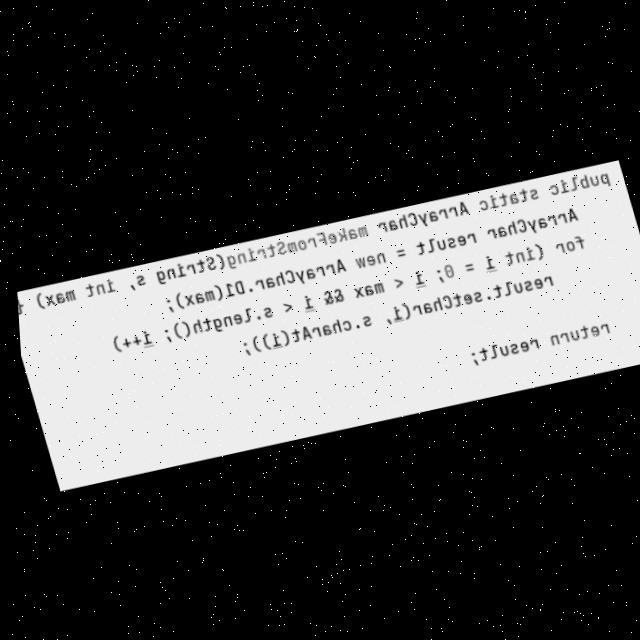code_screen: (17, 160, 640, 488)
